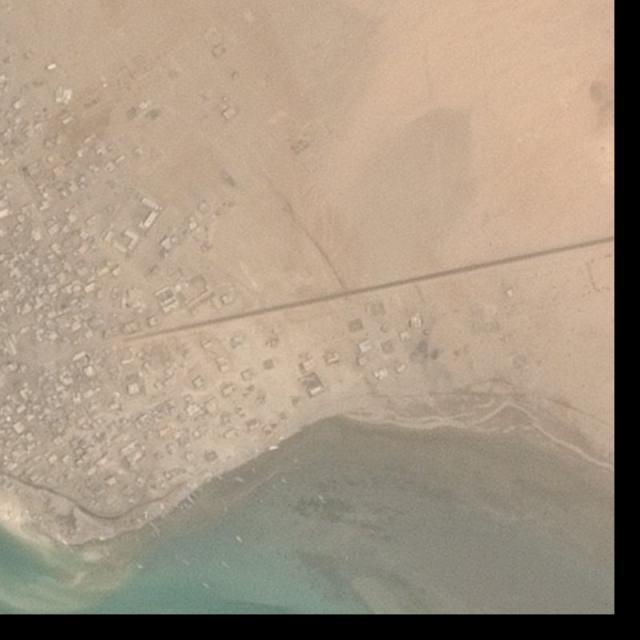ship: (318, 494, 326, 505), (182, 558, 192, 566), (235, 535, 243, 544), (221, 561, 230, 569), (202, 582, 210, 590), (236, 477, 244, 483), (138, 565, 142, 570), (282, 479, 287, 483), (273, 485, 277, 489)
